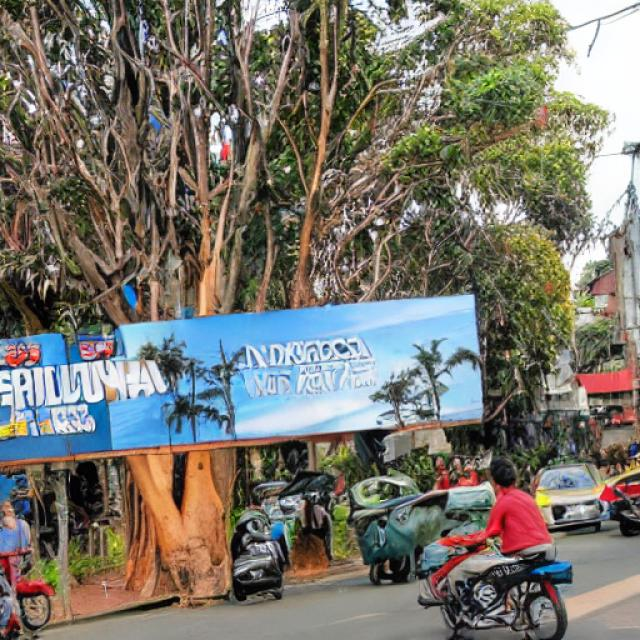Billboard: (0, 291, 488, 474)
